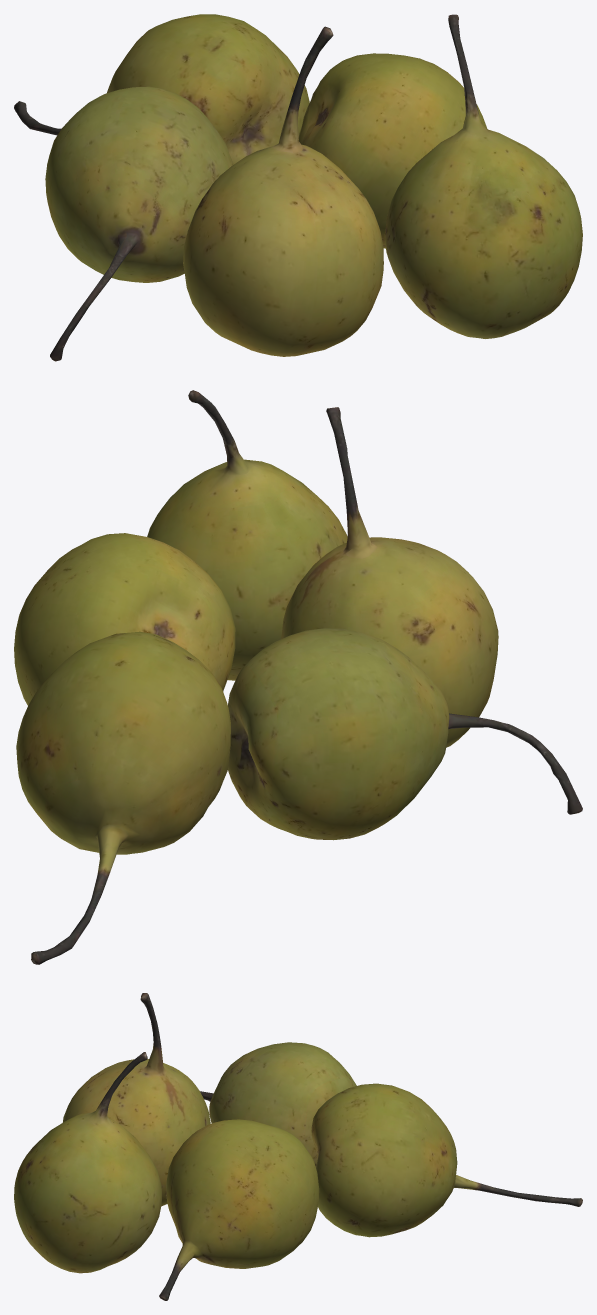
Rendered from pears.glb.
3 renders of one model, top to bottom at view 1: azimuth 30°, elevation 25°; view 2: azimuth 150°, elevation 25°; view 3: azimuth 270°, elevation 25°, orthographic. The views are drawn at different scales.
Visible parts, largest first — view 1: food_pears_asian_01_b; view 2: food_pears_asian_01_b; view 3: food_pears_asian_01_b.
Part boxes in pixels (x1=…): food_pears_asian_01_b: x1=14, y1=14, x2=582, y2=361; food_pears_asian_01_b: x1=14, y1=390, x2=582, y2=964; food_pears_asian_01_b: x1=14, y1=993, x2=582, y2=1300.
Bounding box in the file's own units: 0.1261 × 0.0711 × 0.1669.
Materials: 1 (1 with a texture image).
